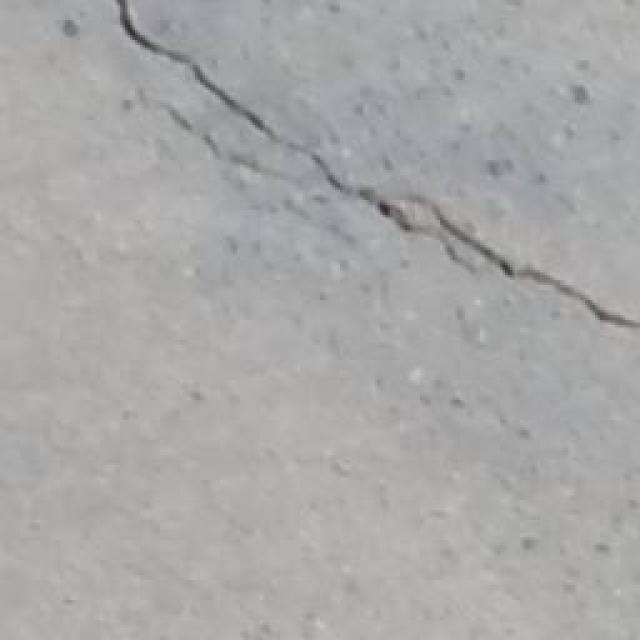concrete-crack: (119, 0, 638, 329)
